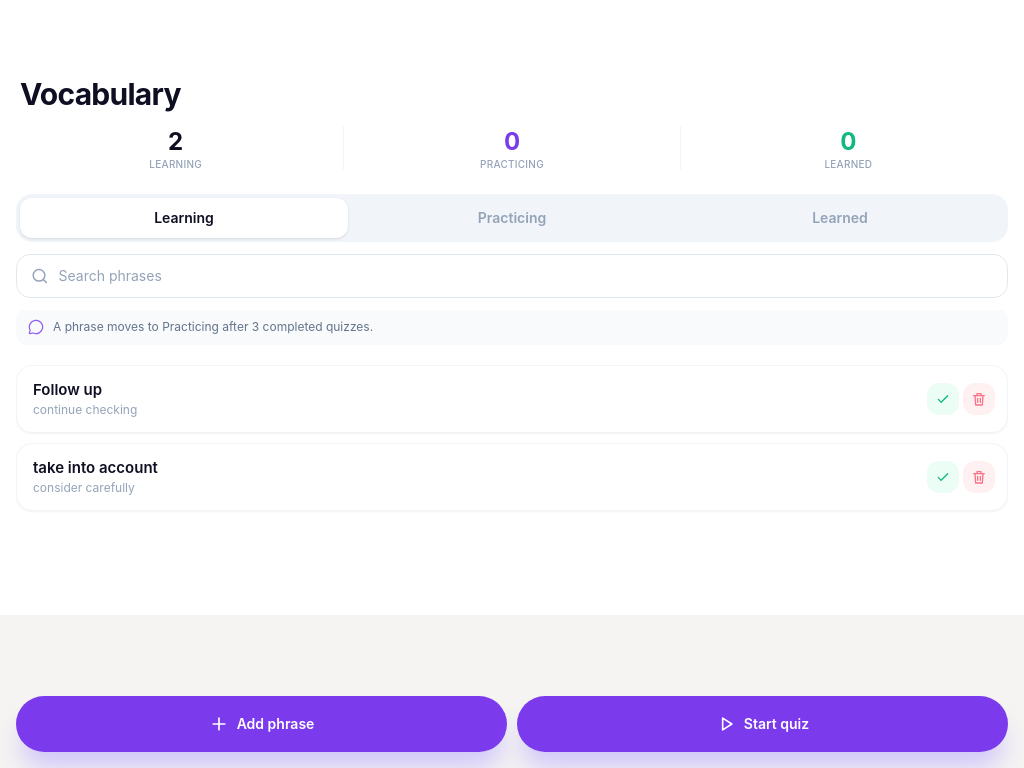
VocabularyScreen › filters the active vocabulary tab by phrase or definition
Check: the text "A phrase moves to Practicing after 3 completed quizzes." is shown, box x1=53 y1=318 x2=373 y2=335
Type "FOLLOW" into the search field labelled "Search phrases".
click(530, 276); type("FOLLOW")  # box x1=58 y1=255 x2=1001 y2=297
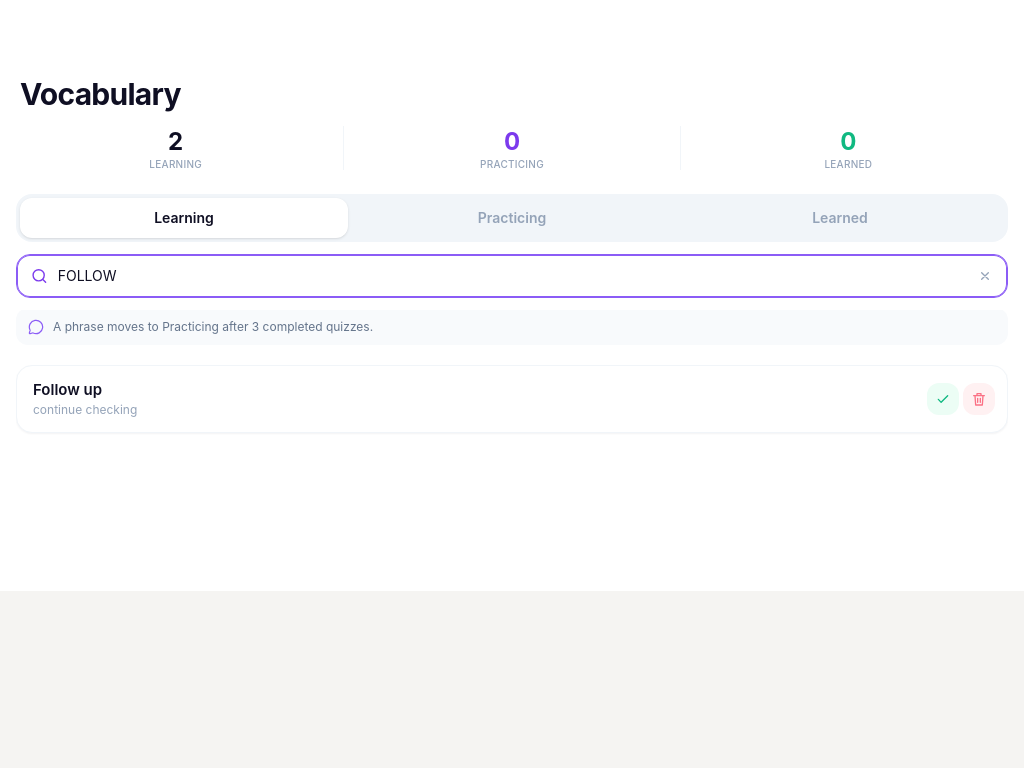
Check: the heading "Follow up" is shown, box x1=33 y1=380 x2=102 y2=399
Check: the heading "take into account" is gone
Click the button named "Clear search".
click(985, 276)  # box x1=969 y1=260 x2=1001 y2=292
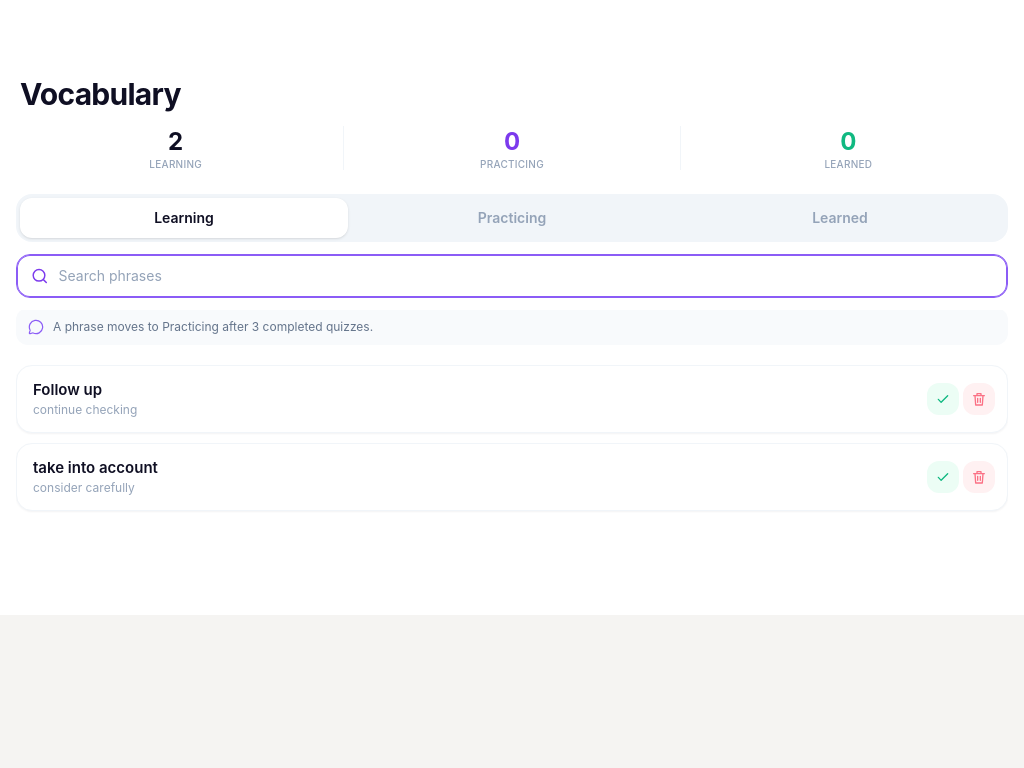
Check: the search field labelled "Search phrases" is empty
Type "carefully" into the search field labelled "Search phrases".
click(530, 276); type("carefully")  # box x1=58 y1=255 x2=1001 y2=297
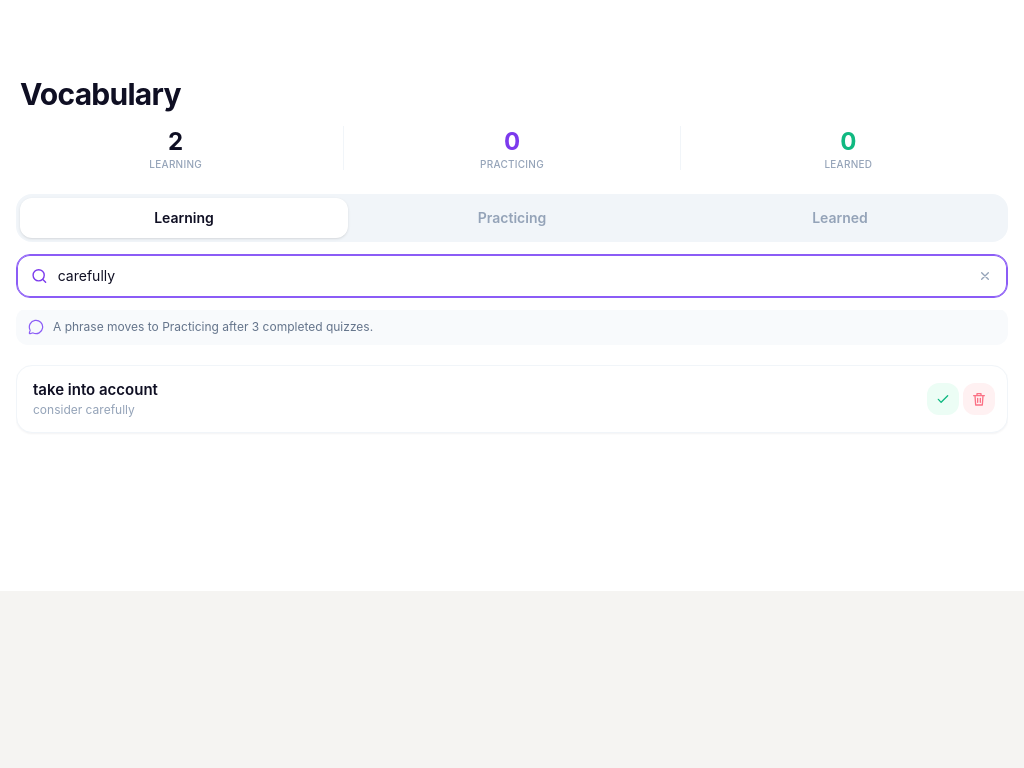
Check: the heading "take into account" is shown, box x1=33 y1=380 x2=158 y2=399
Check: the heading "Follow up" is gone
Clear the search field named "Search phrases" at {"x": 508, "y": 276}, box x1=58 y1=255 x2=959 y2=297
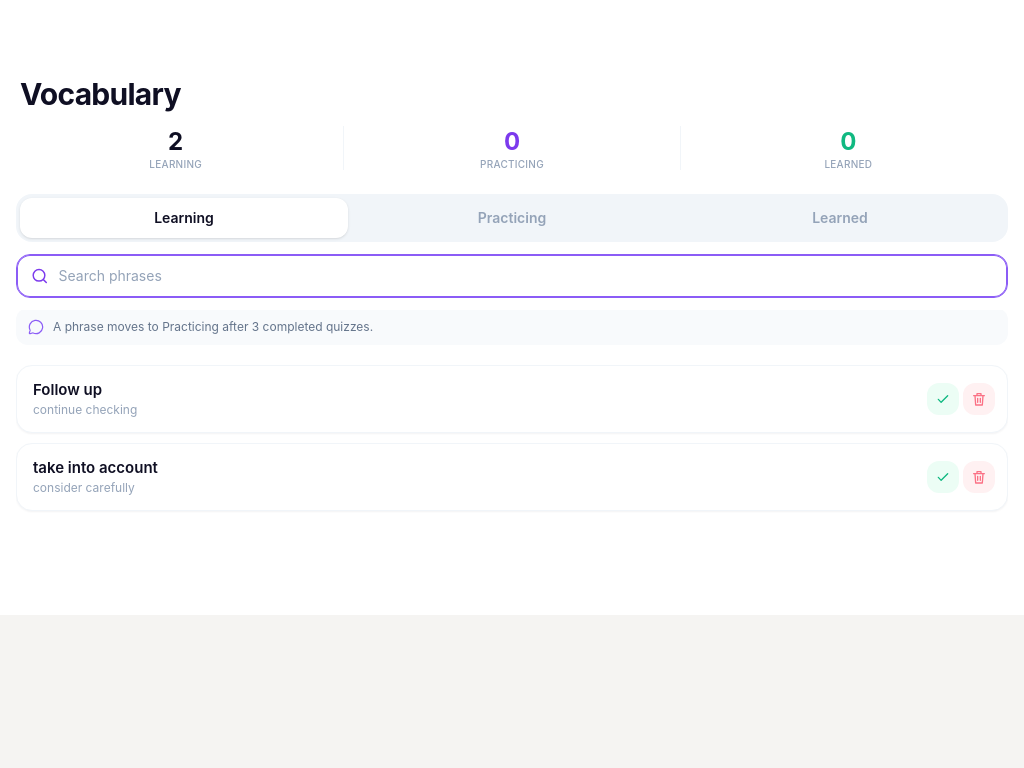
Type "missing phrase" into the search field labelled "Search phrases".
click(530, 276); type("missing phrase")  # box x1=58 y1=255 x2=1001 y2=297
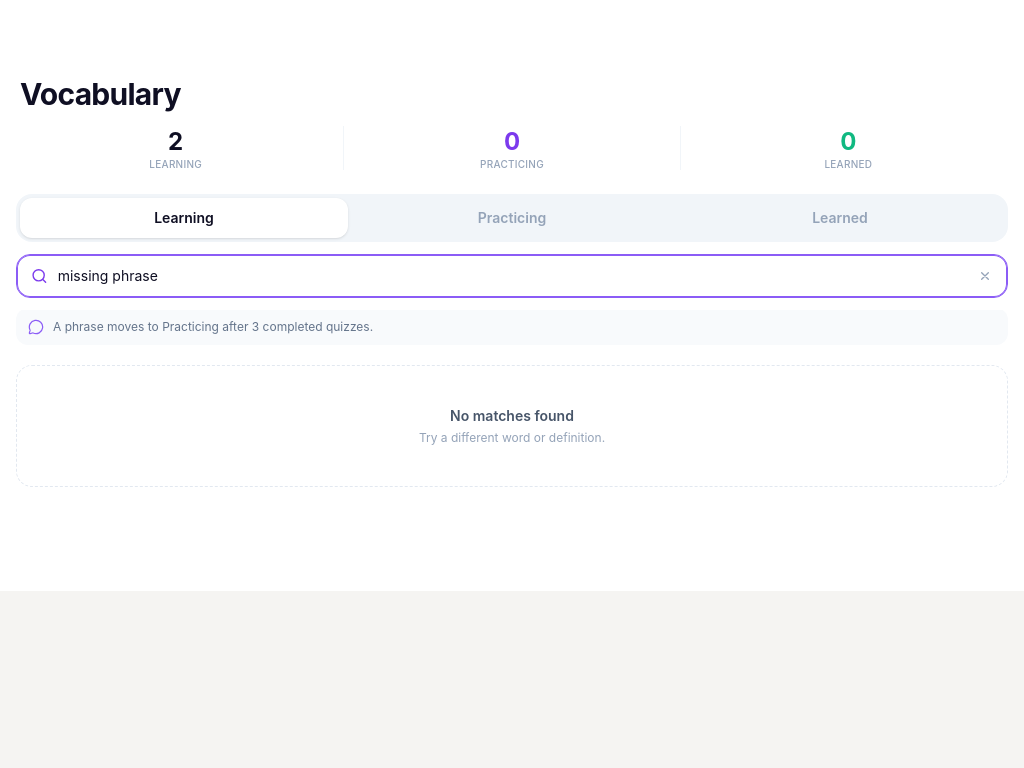
Check: the text "No matches found" is shown, box x1=450 y1=407 x2=574 y2=424
Check: the text "Try a different word or definition." is shown, box x1=419 y1=430 x2=605 y2=445
